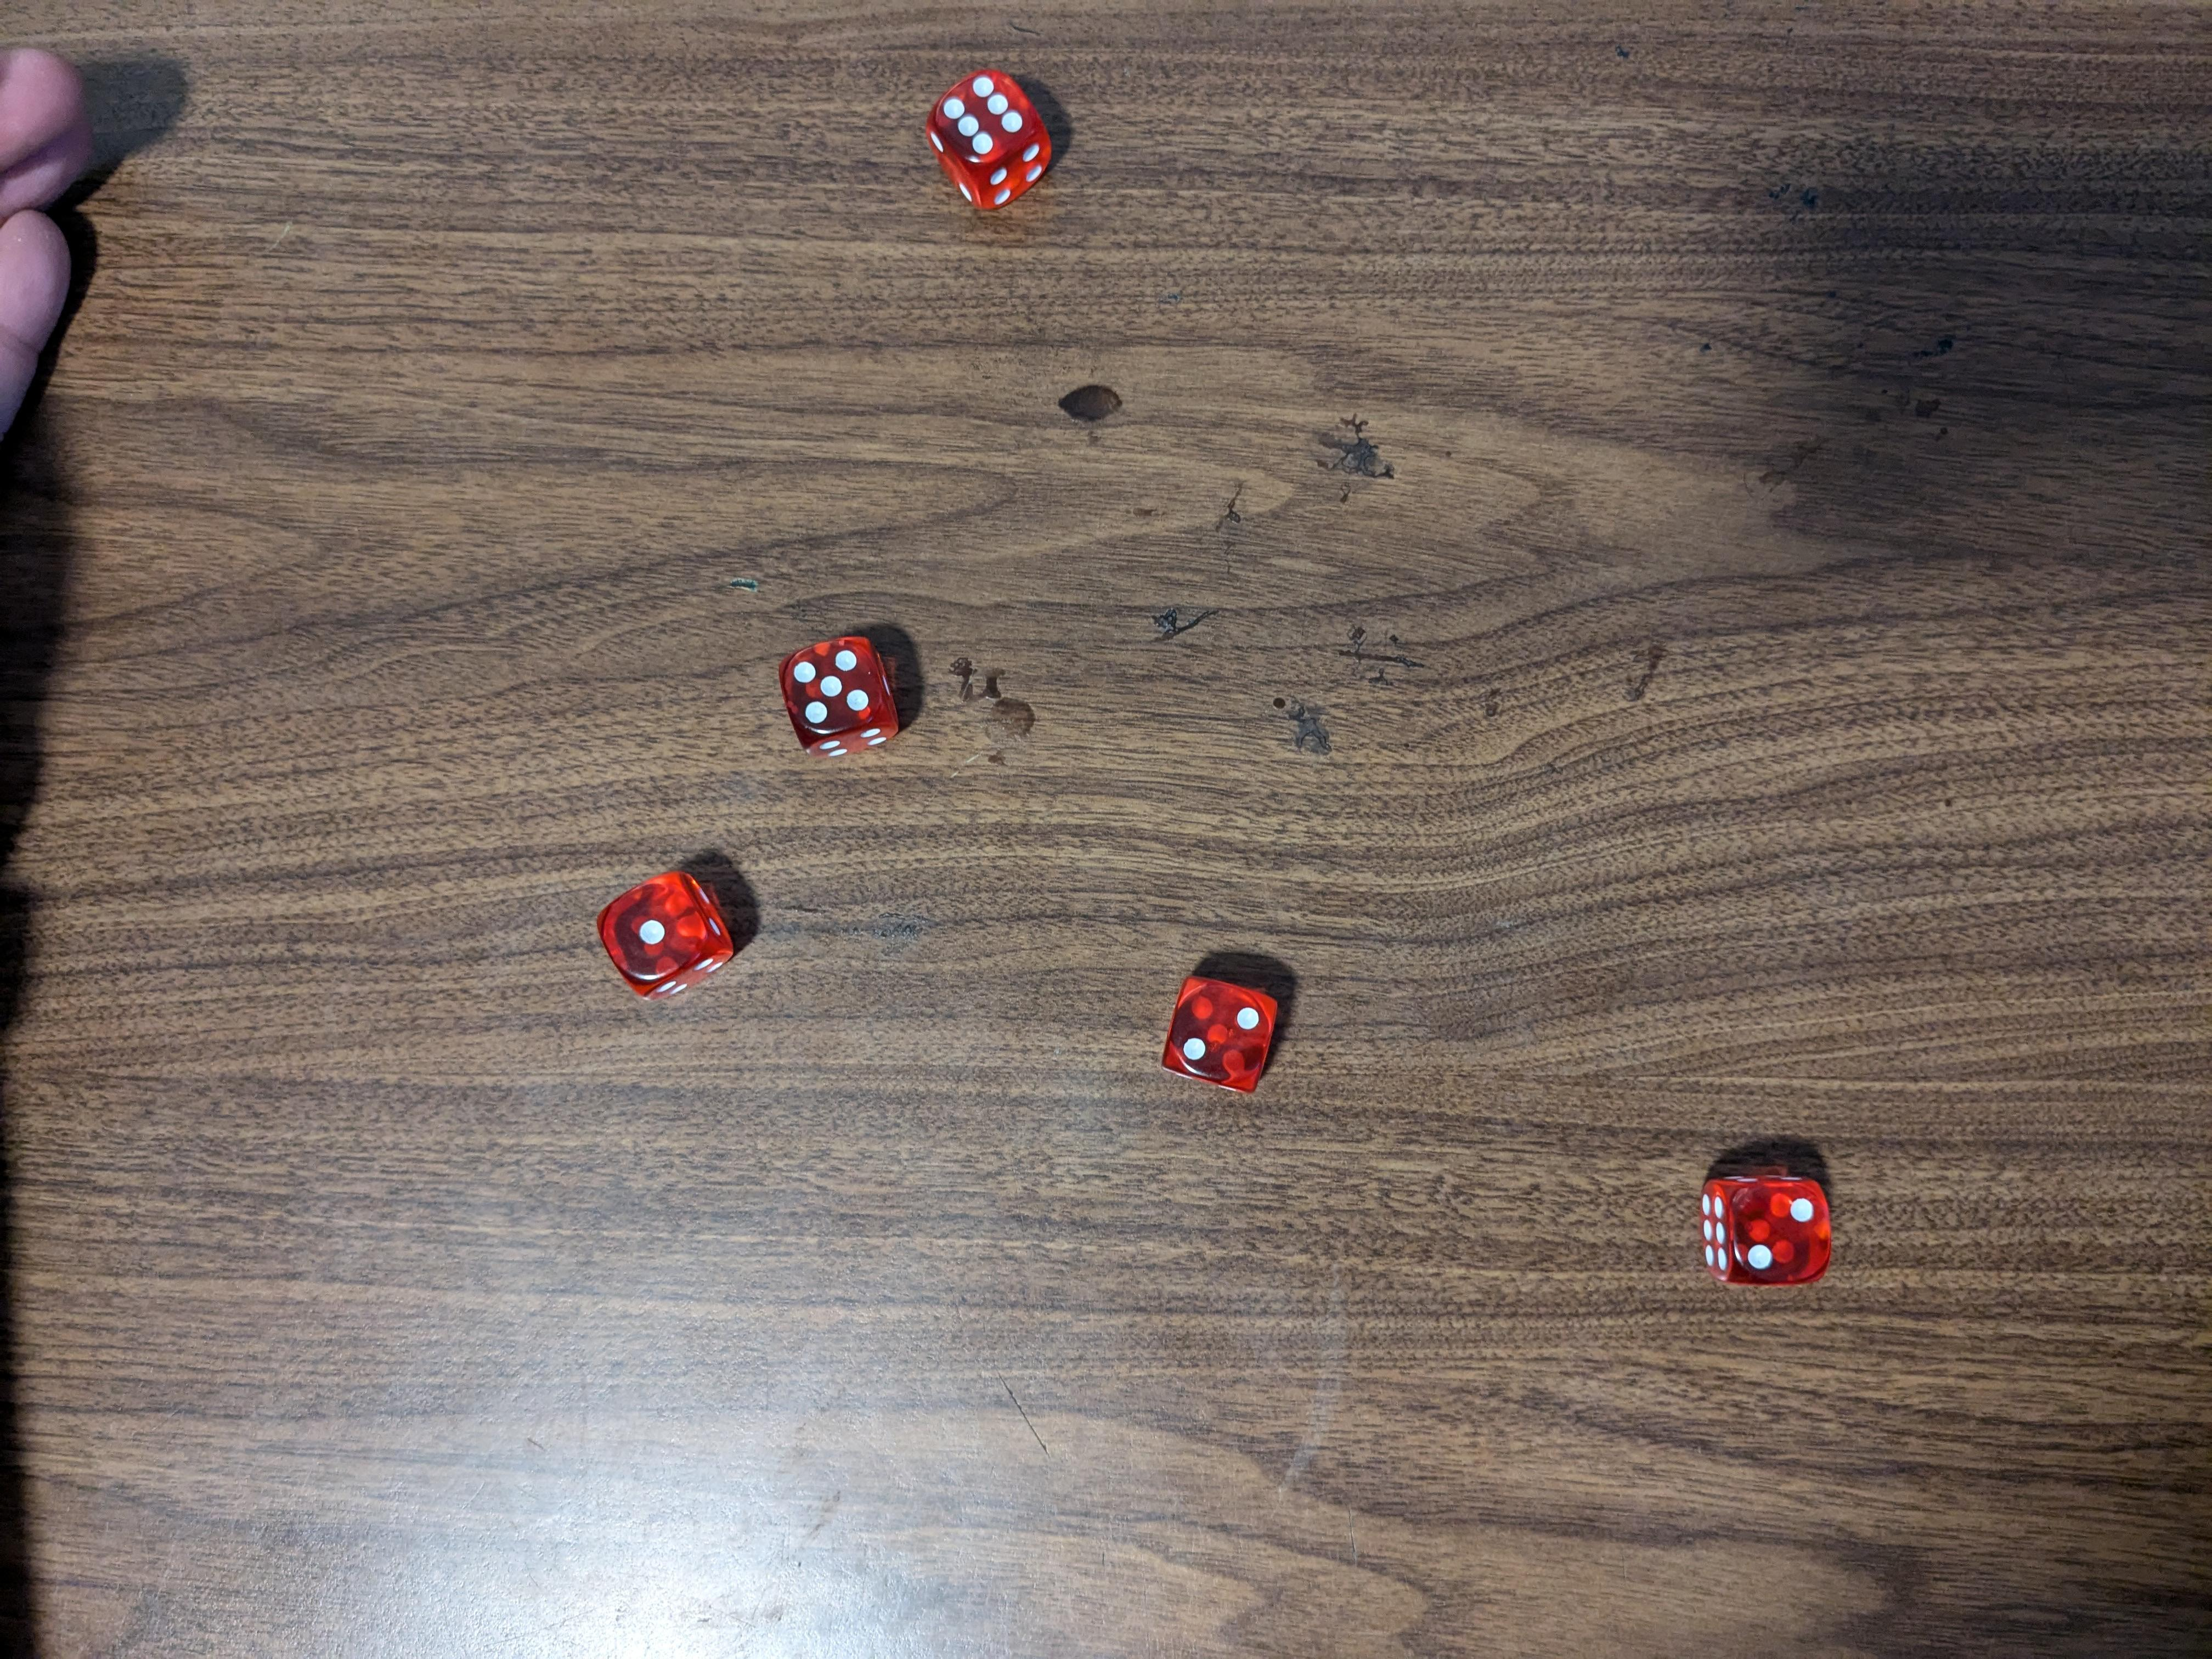five: (775, 631, 911, 760)
one: (603, 871, 737, 1002)
six: (921, 64, 1055, 204), (1700, 1171, 1839, 1290)
two: (1158, 974, 1282, 1098)
